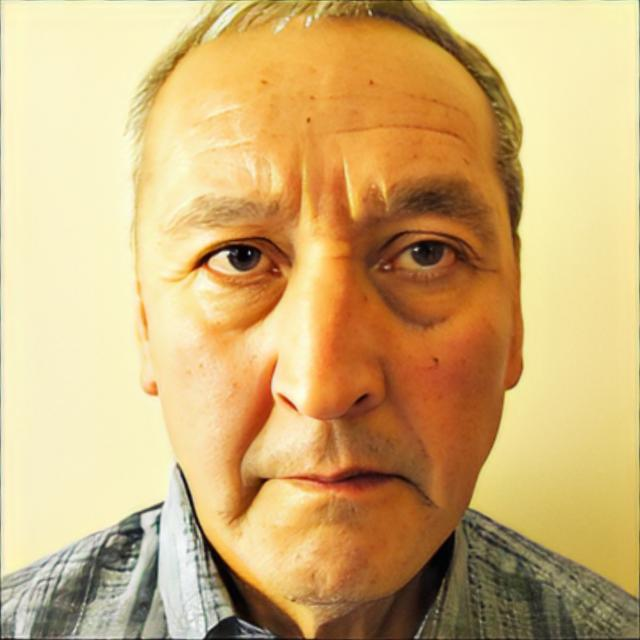sad: (143, 18, 516, 606)
